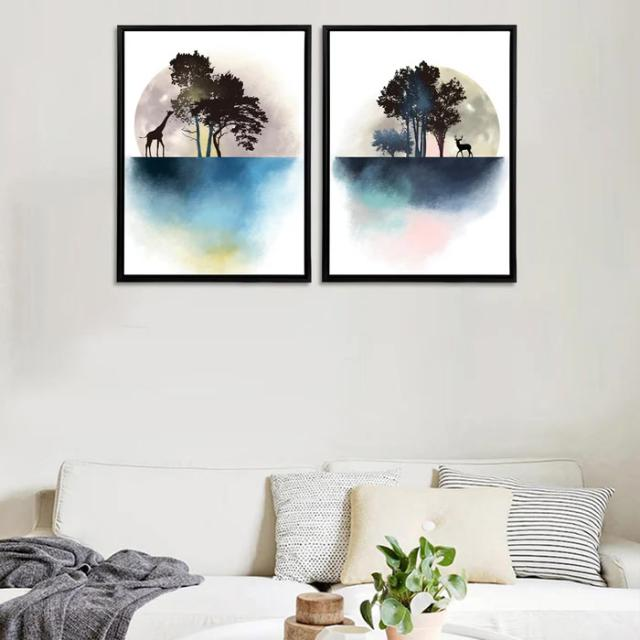painting: (117, 25, 313, 285), (322, 25, 518, 285)
